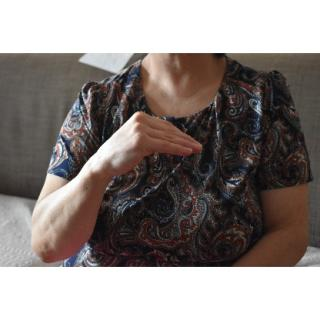HAA: (94, 106, 208, 178)
